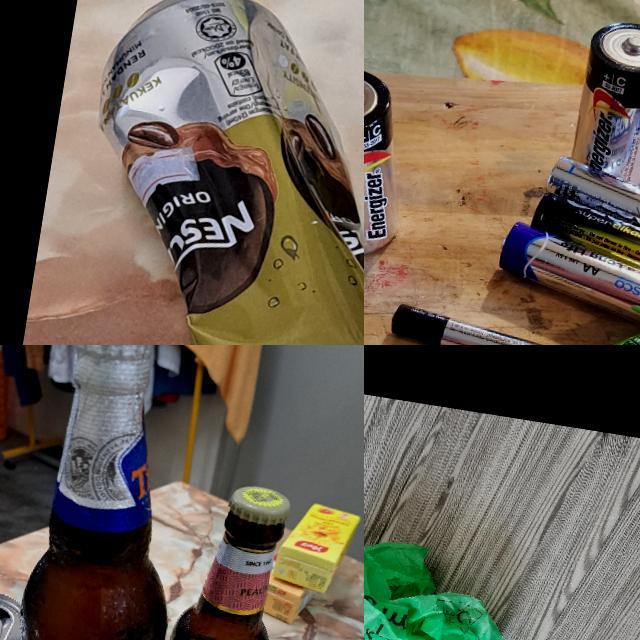bateria: (492, 220, 640, 330), (569, 15, 640, 193), (364, 59, 424, 267), (526, 190, 640, 290), (541, 155, 640, 252), (386, 301, 555, 345)
caixinha: (272, 498, 362, 598), (262, 554, 320, 629)
garrafa de vidro: (0, 345, 211, 640), (142, 474, 297, 640)
lata: (42, 0, 364, 345)
sacola plástica: (364, 523, 515, 640)
